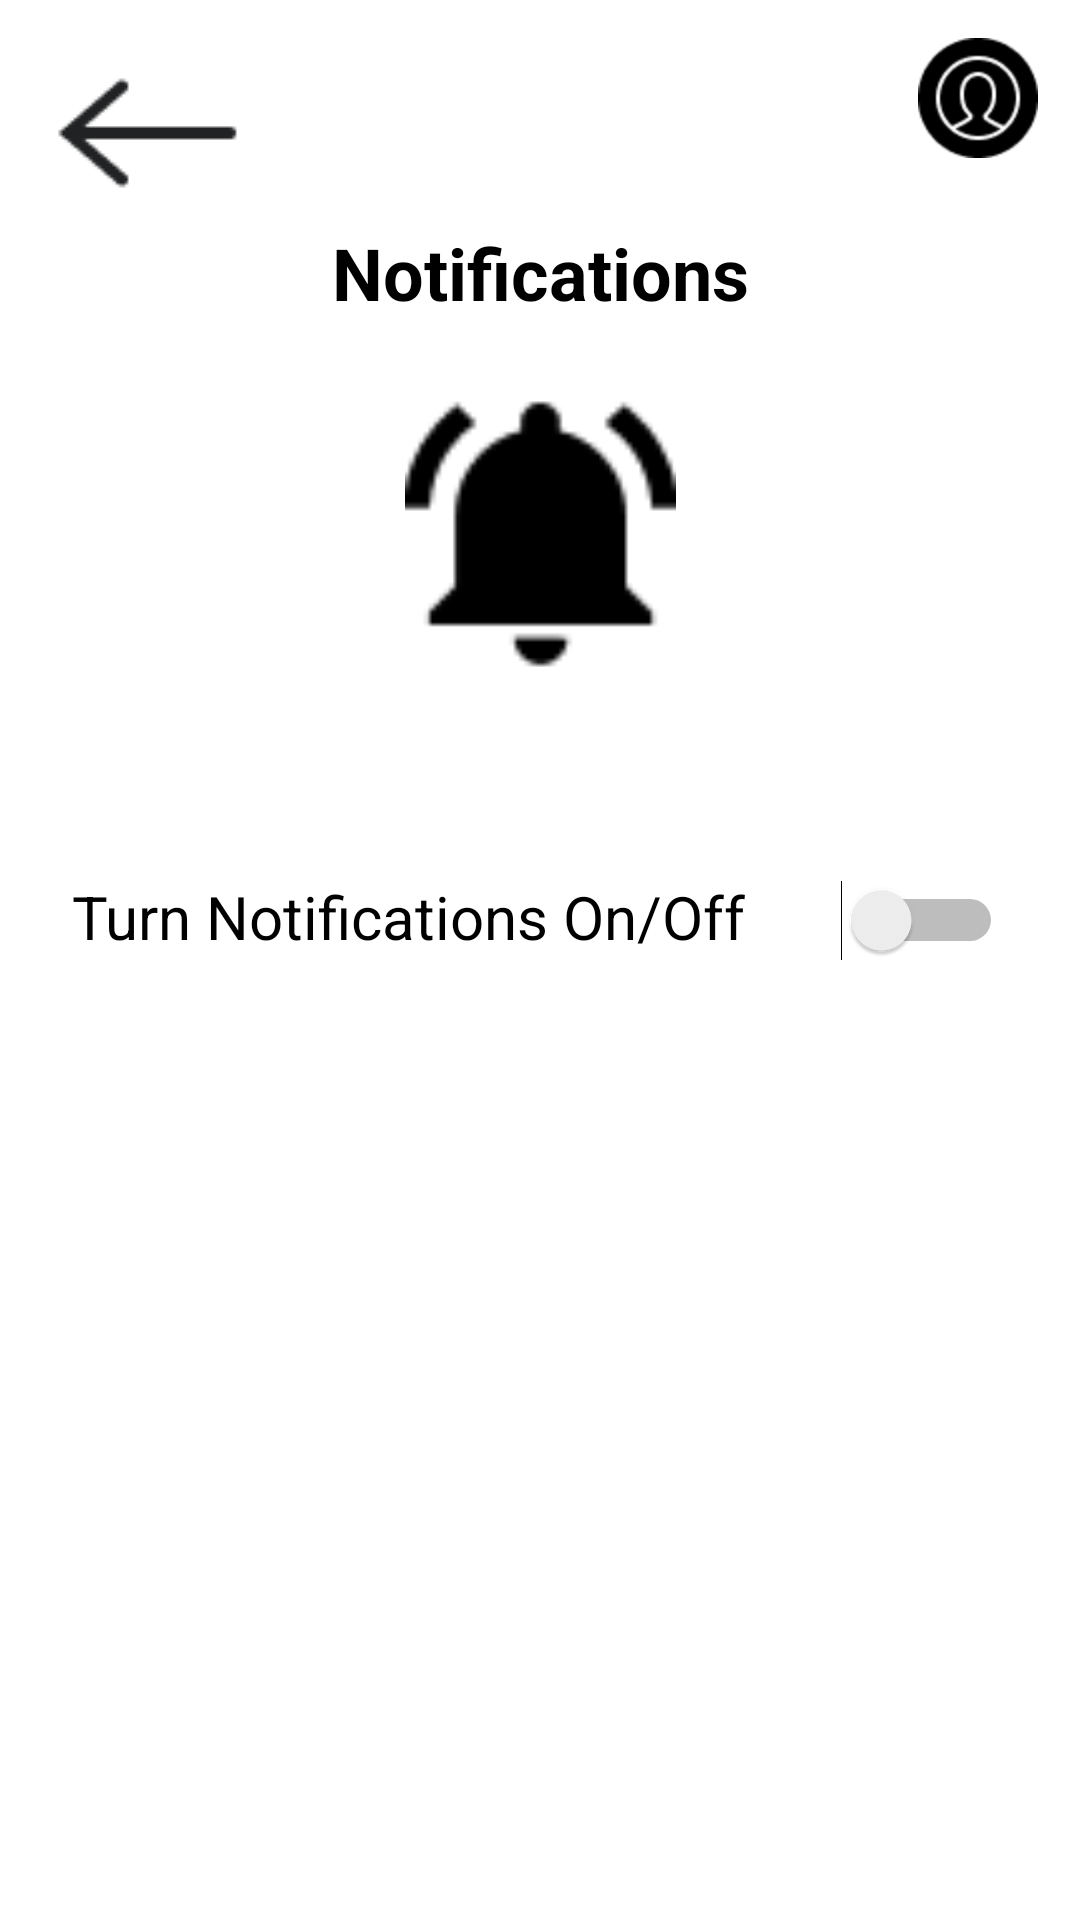

Icon click points for this 1080 x 1920 phone screenshot, format [x,y]:
Back: [147,133]
imgprofilepic: [978,98]
